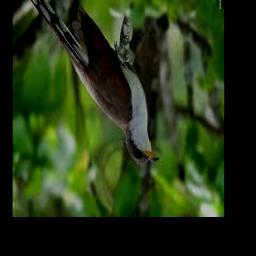Cuckoo: (27, 0, 159, 164)
